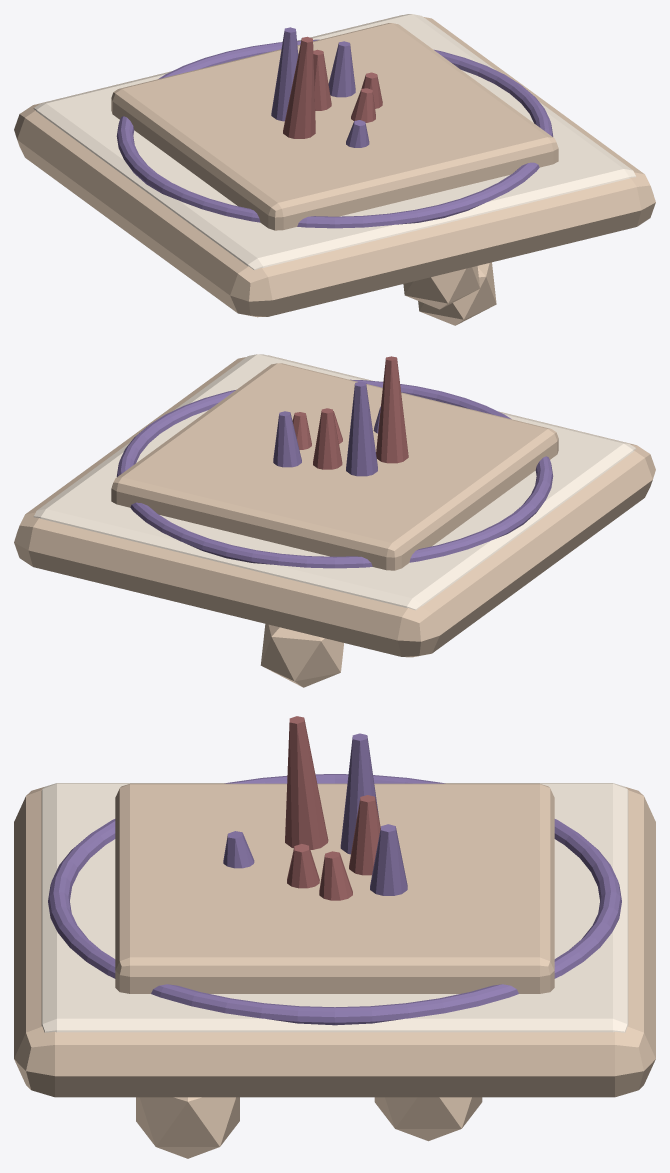
File: island_vectordb.glb
3 renders of one model, top to bottom at view 1: azimuth 30°, elevation 25°; view 2: azimuth 150°, elevation 25°; view 3: azimuth 270°, elevation 25°, orthographic. The views are drawn at different scales.
Visible parts, largest first — view 1: island_vectordb; view 2: island_vectordb; view 3: island_vectordb.
Boxes of the visible parts, x1,y1,x2,y2 form: island_vectordb: (14, 14, 655, 325); island_vectordb: (14, 354, 655, 687); island_vectordb: (14, 716, 655, 1158).
Bounding box in the file's own units: 2.04 × 1.39 × 2.04.
